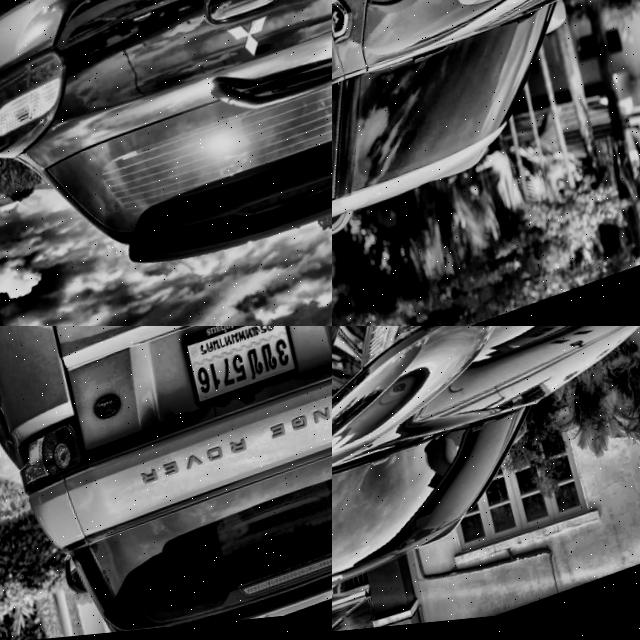license-plate: (179, 326, 309, 420)
